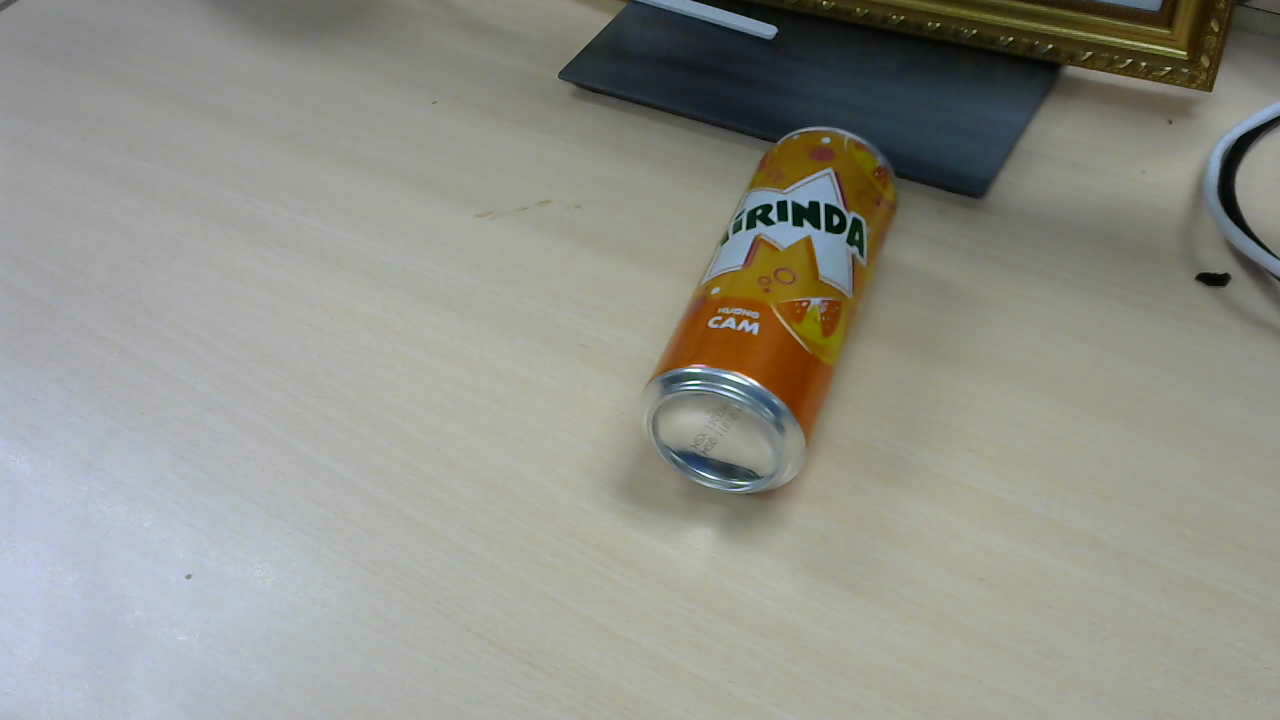Mirinda: (648, 135, 902, 499)
